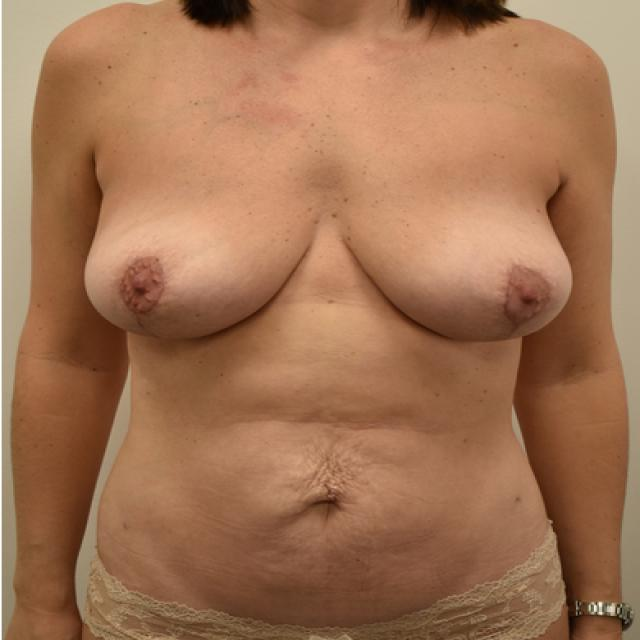Seno herido: (78, 173, 324, 350), (332, 175, 580, 350)
